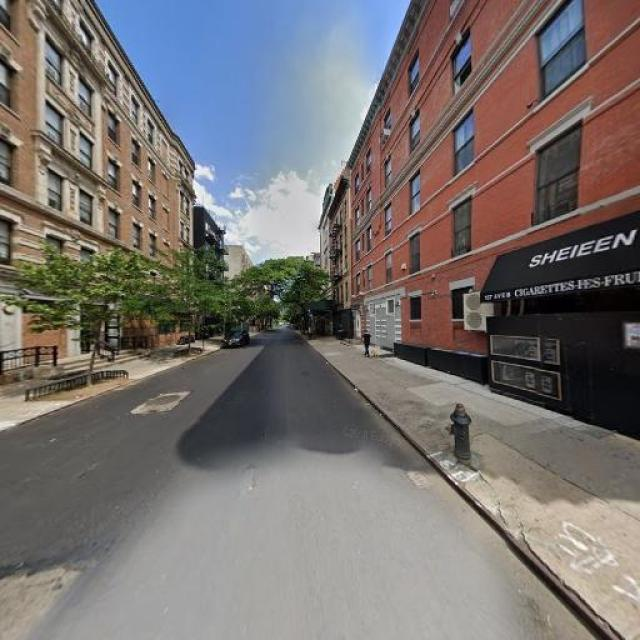Building: (352, 1, 640, 433), (1, 1, 193, 372)
